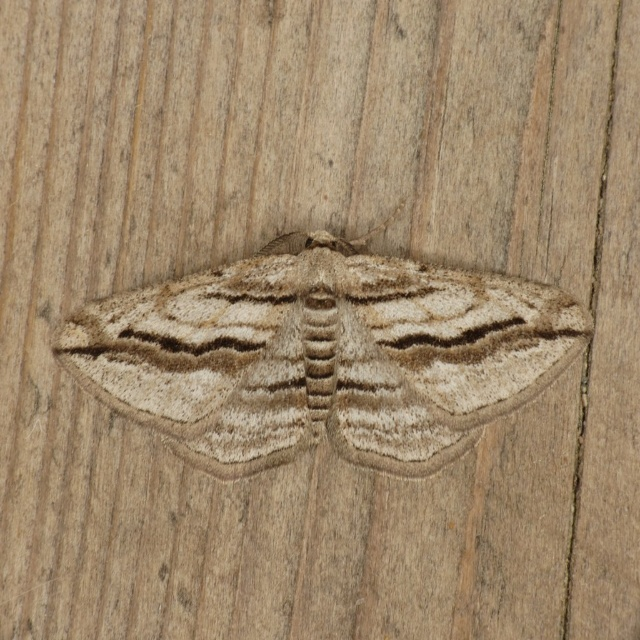Moths and butterflies: (50, 193, 595, 482)
